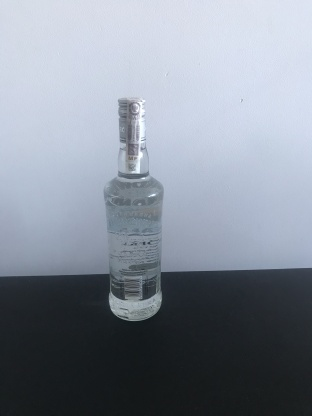nakretka: (115, 93, 149, 145)
